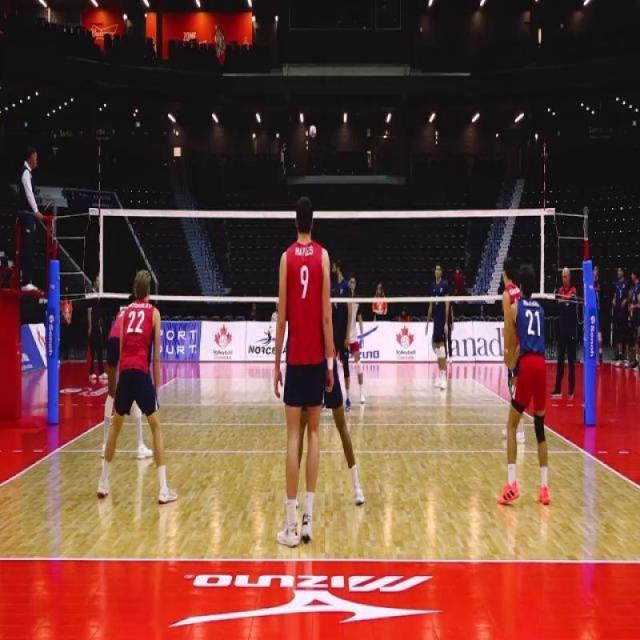volleyball: (308, 124, 316, 139)
